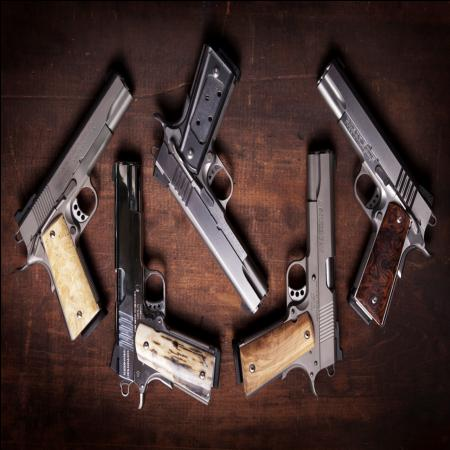Pistol: (13, 62, 135, 342), (314, 50, 436, 326), (149, 29, 267, 312), (231, 142, 343, 398), (110, 152, 217, 407)
